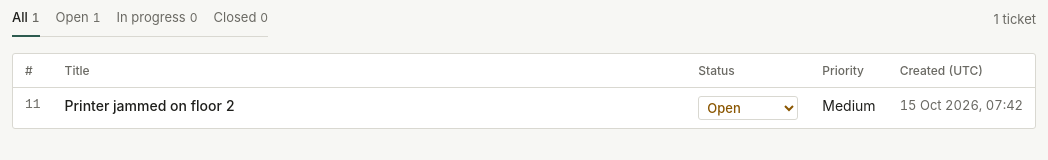
it: ticket counts in the status filter › refreshes the counts after a status change is saved
The image size is (1048, 160).
Expected: the link "Open 1" is shown, left=56, top=9, right=101, bottom=25
Select "In progress" in the dropdown named "Status for ticket #11" at (748, 108), box left=698, top=96, right=798, bottom=120
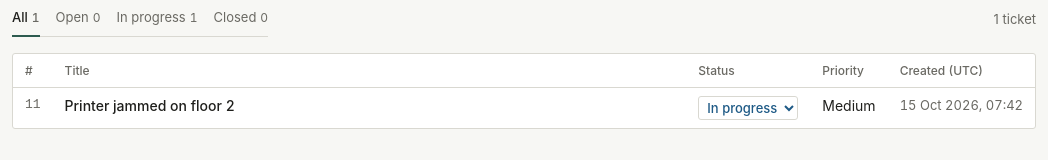
Result: the link "In progress 1" is shown at left=116, top=9, right=198, bottom=25
Result: the link "Open 0" is shown at left=56, top=9, right=101, bottom=25
